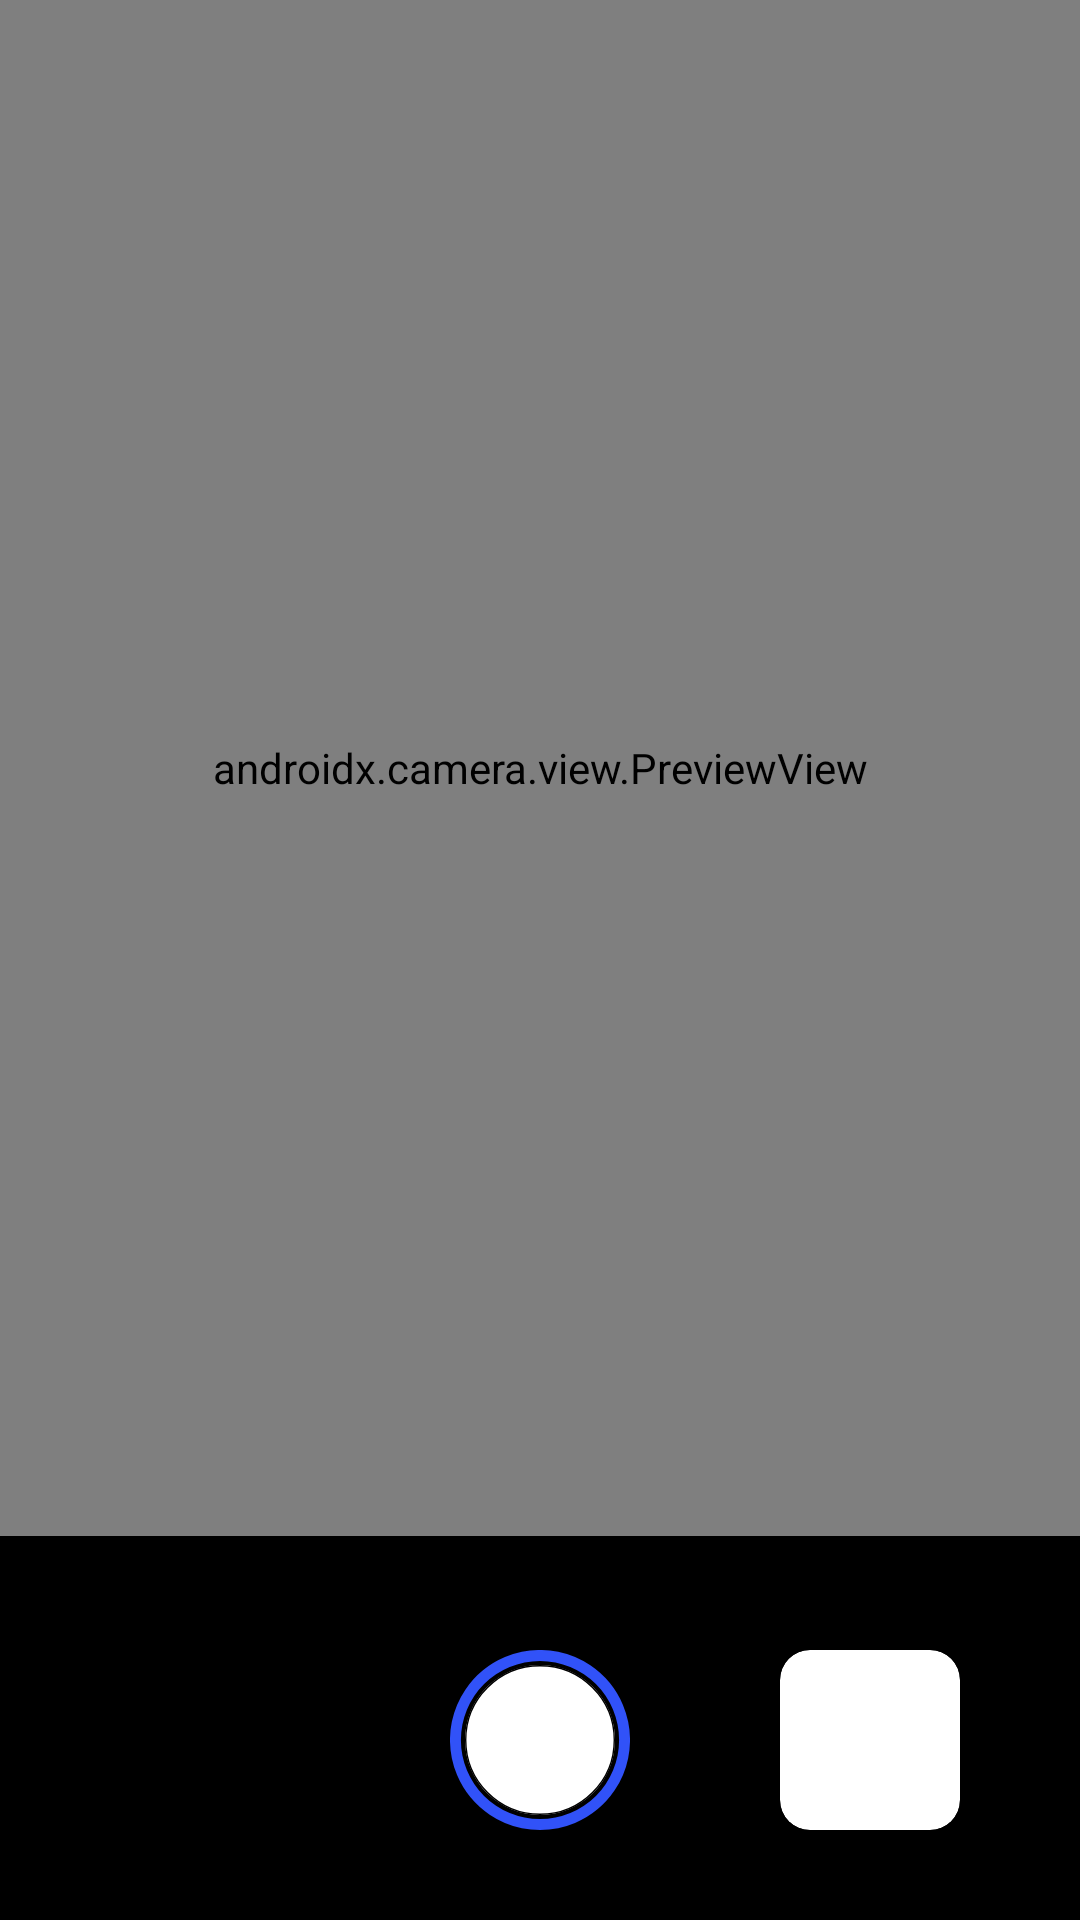

Screen size 1080w x 1920h. Icon name, then its box in pixels as {"x1": x1, "y1": y1, "x2": x2, "y2": y2}:
camera shutter: {"x1": 450, "y1": 1650, "x2": 630, "y2": 1830}
